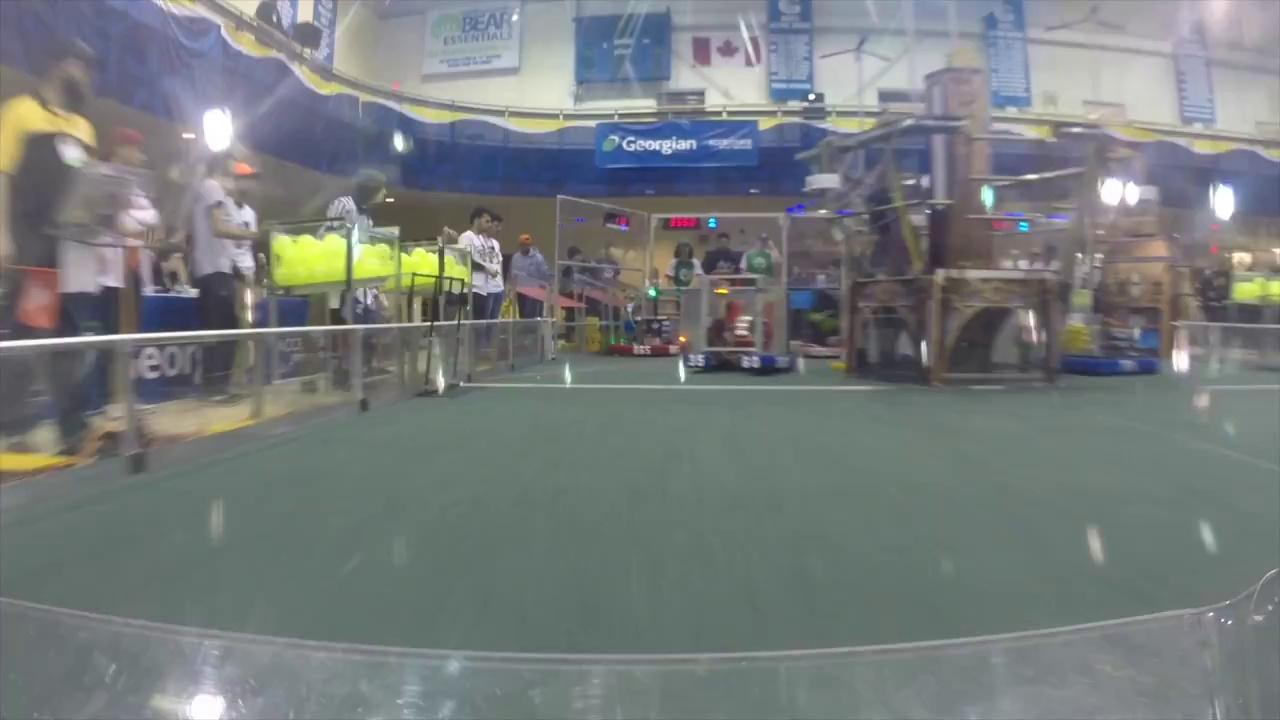robot: (682, 269, 798, 378), (1058, 309, 1166, 379), (619, 300, 685, 362)
